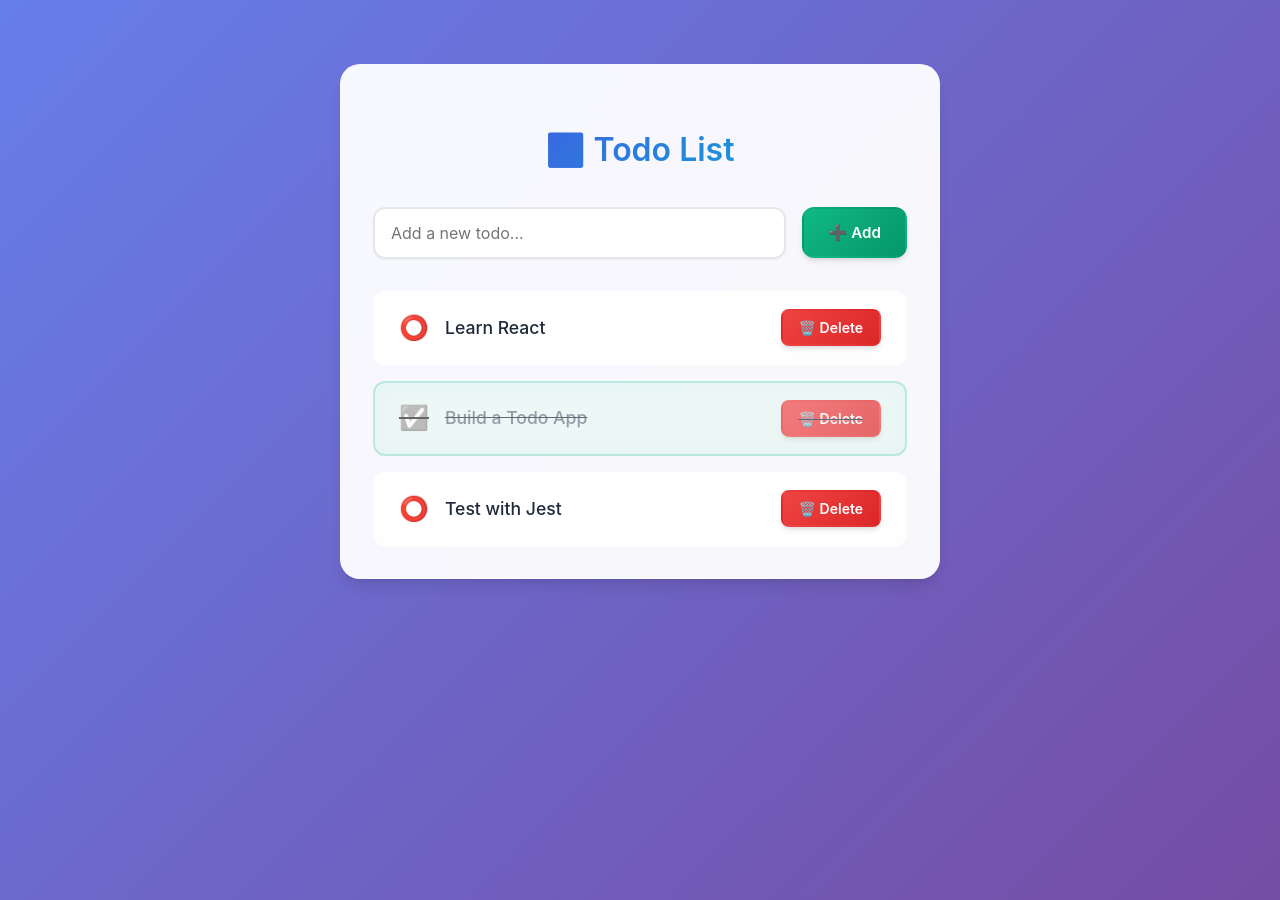
TodoList Component › deletes a todo
Click the button with test id "delete-btn-1": {"x": 831, "y": 328} [781,309,881,346]
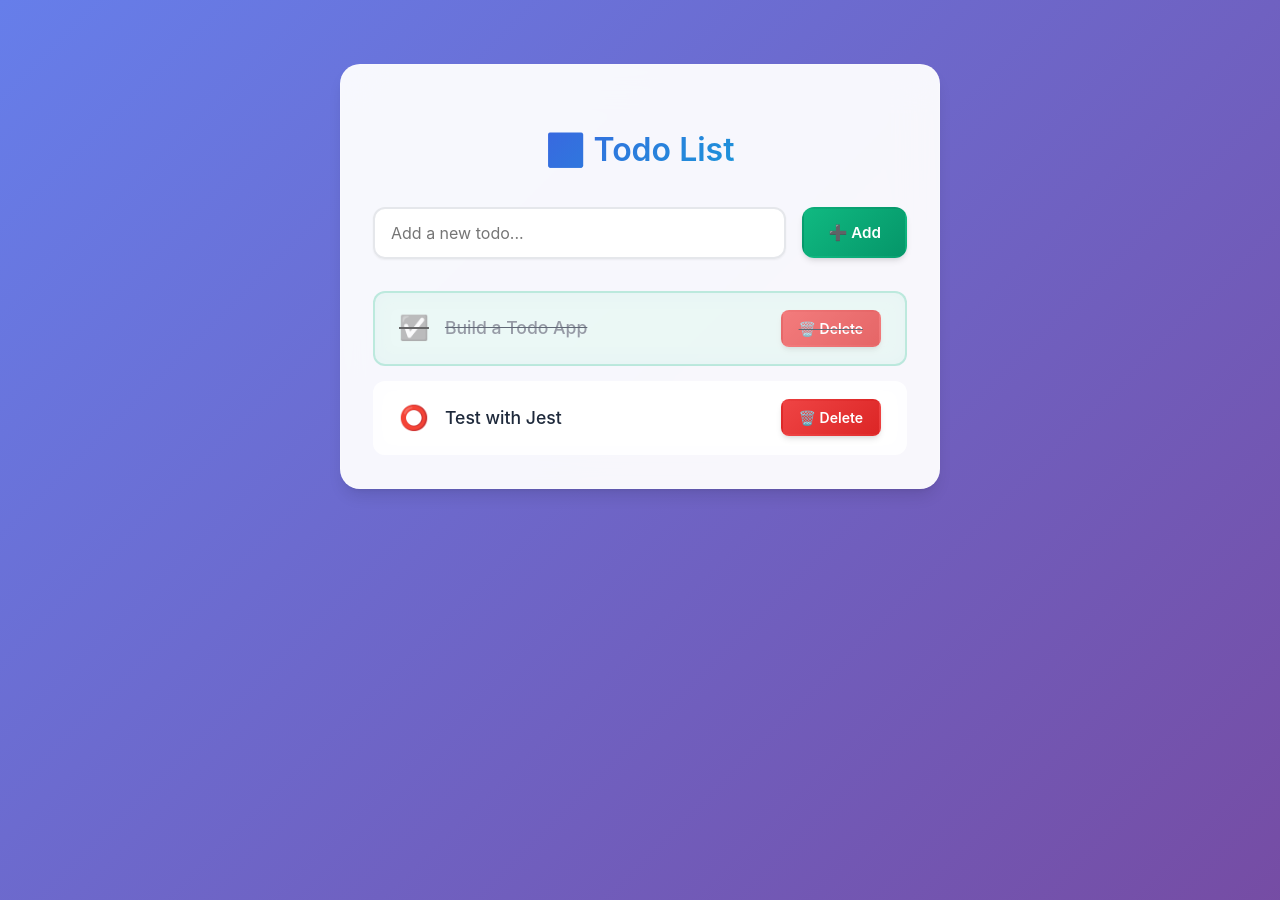
Expected: the text "Learn React" is gone
